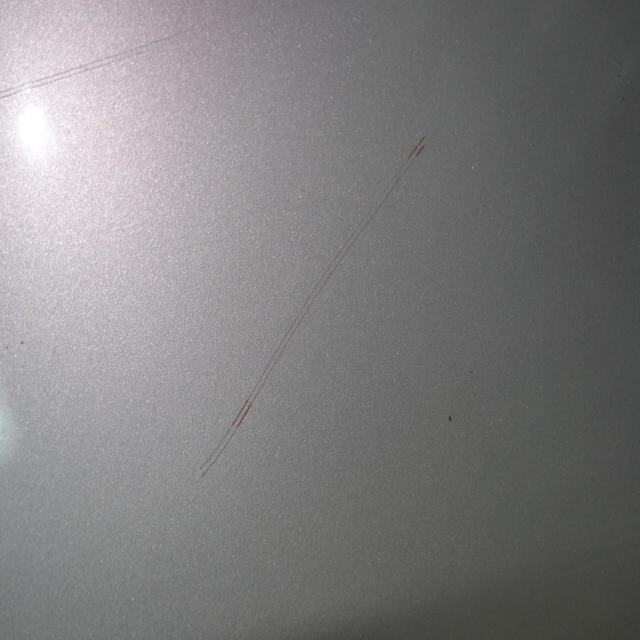dirt: (18, 336, 27, 348), (448, 411, 453, 424), (4, 344, 10, 351)
scratch: (194, 124, 436, 484), (0, 7, 229, 108)
